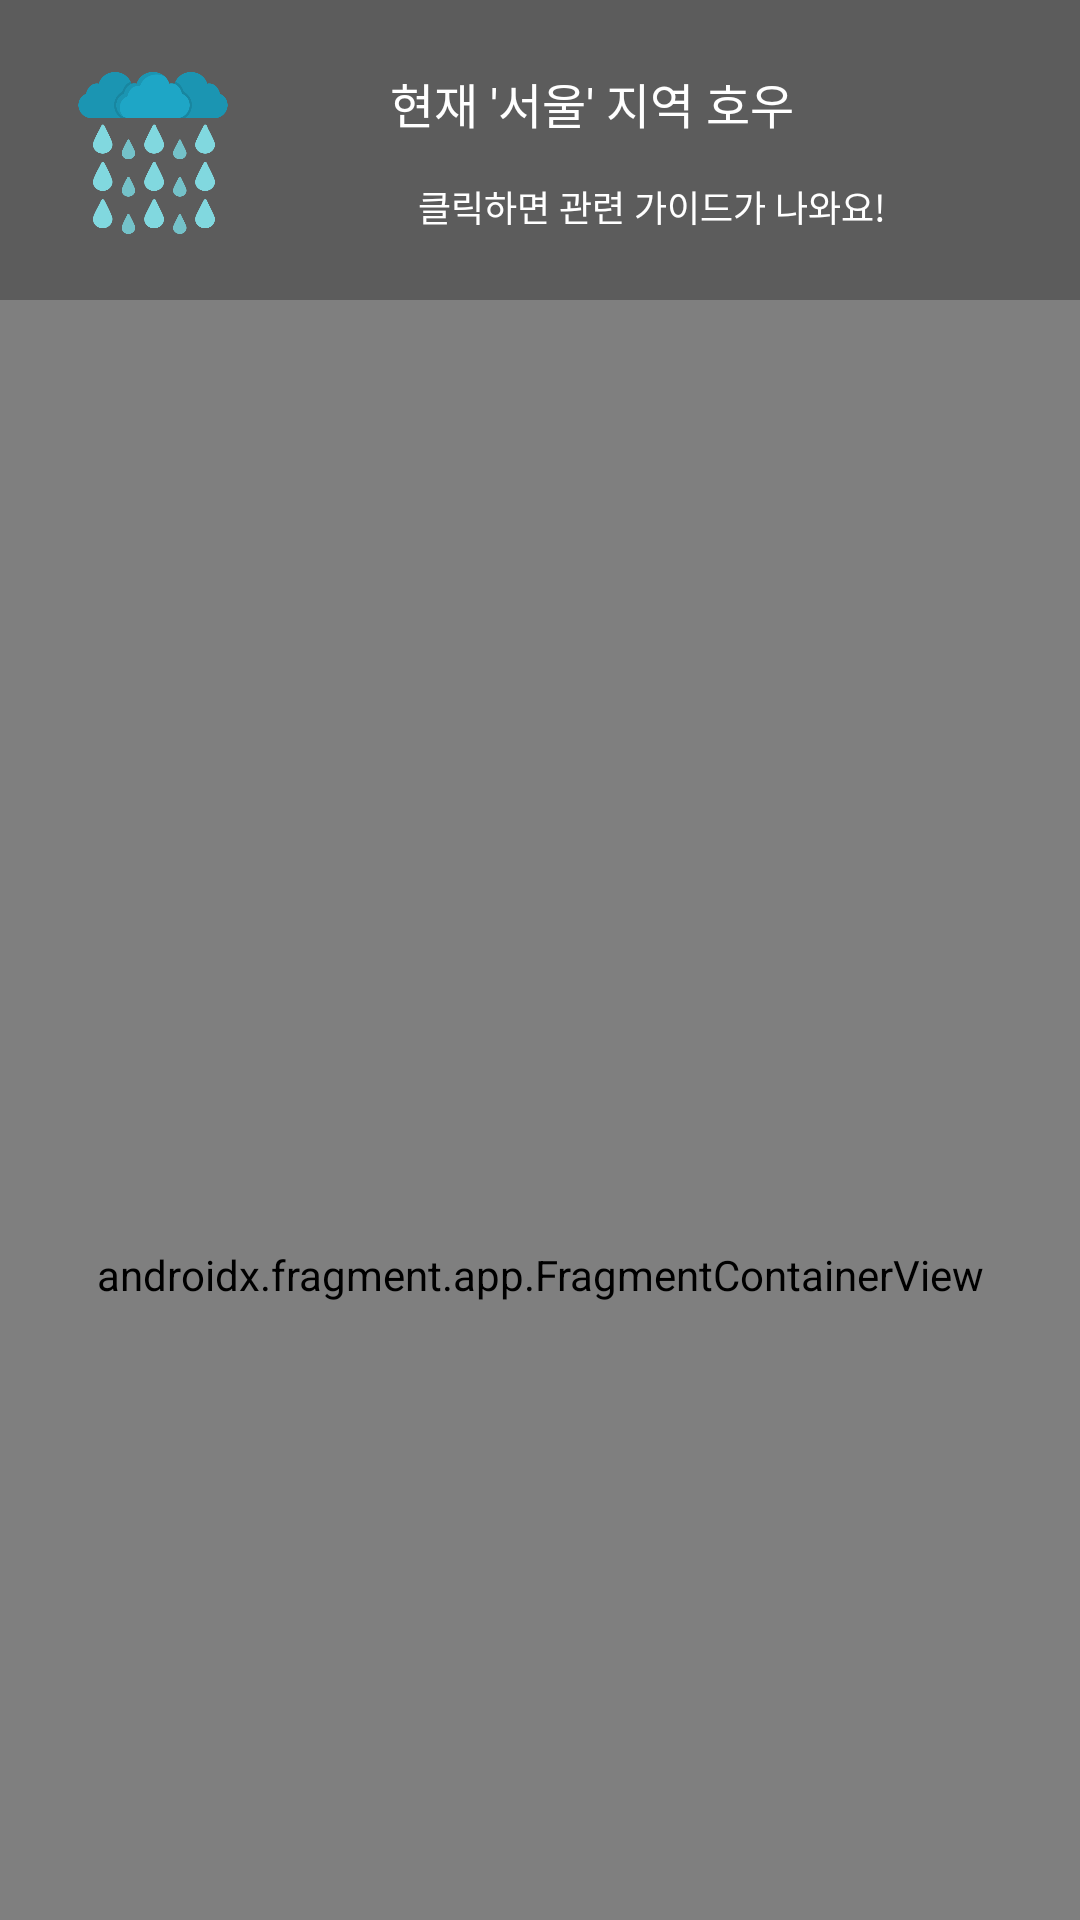

Point at icon controls on the screen. Image size 1080x1920, points as [x,y].
rain: [153,153]
